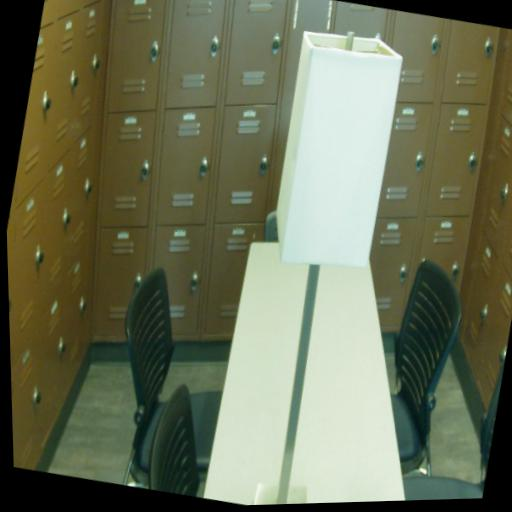lamp: (214, 22, 420, 506)
